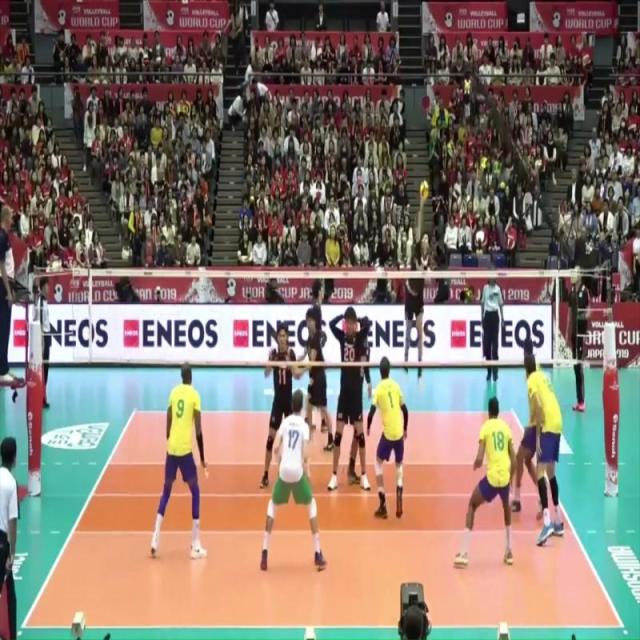volleyball: (418, 180, 430, 200)
